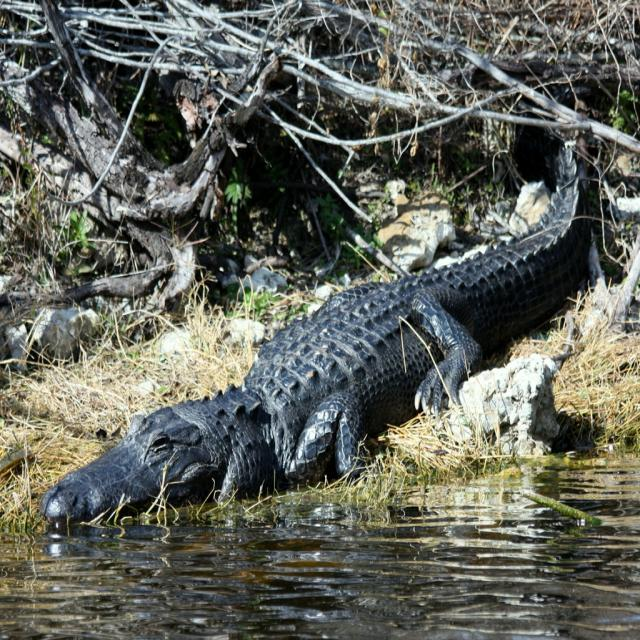crocodile: (34, 129, 610, 540)
